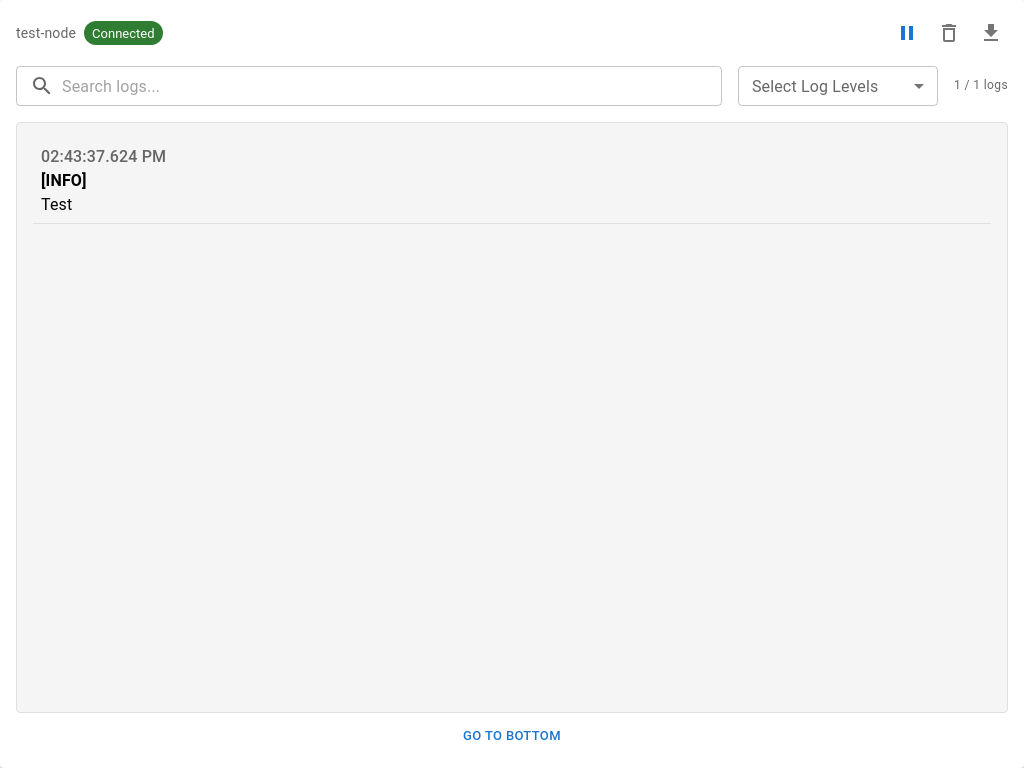
Test case: LogsViewer › Scroll and selection › Go to bottom button appears when not at bottom
Expected: the text "Test" is shown, [41, 195, 72, 214]
Step 1. Click the button "Go to bottom" → click(512, 737), box [458, 721, 566, 752]
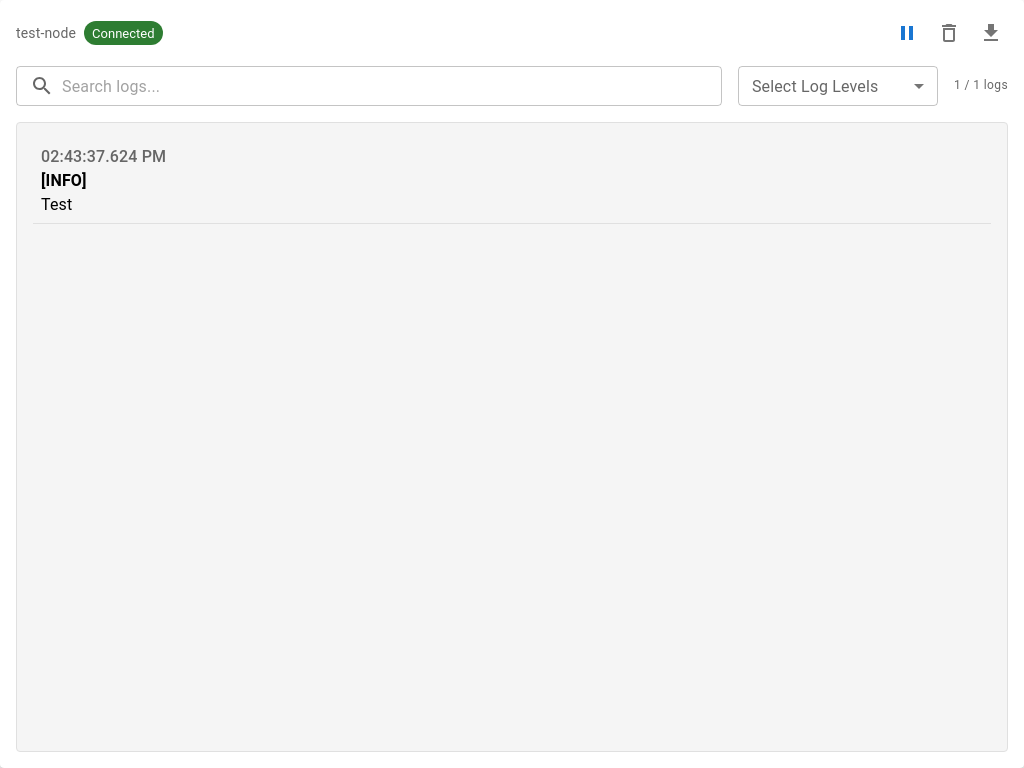
Now the button "Go to bottom" is gone
